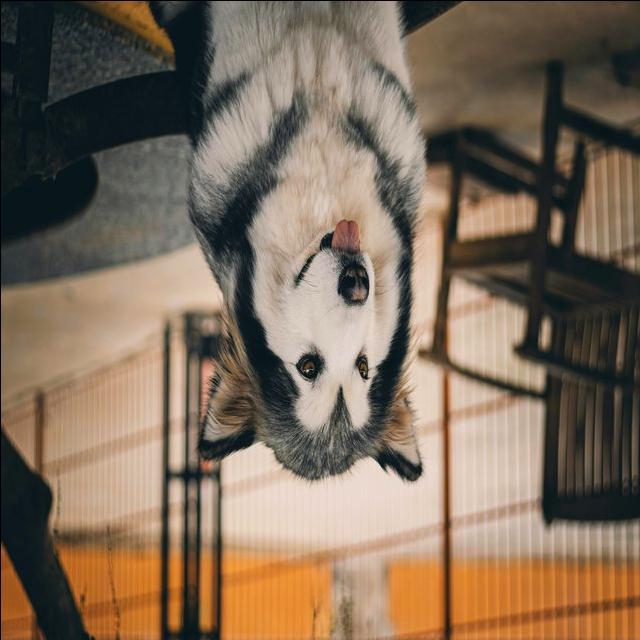husky: (149, 2, 429, 485)
